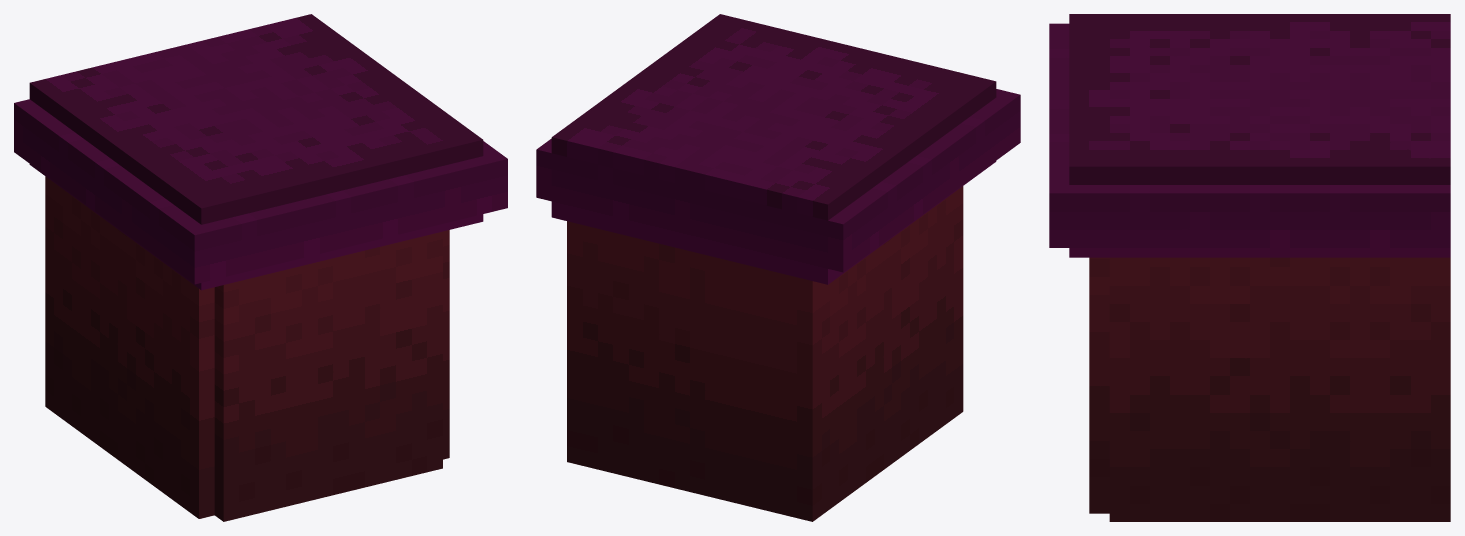
The model's file is full_top_end.glb.
3 views of the same model, side by side, from view 1: azimuth 30°, elevation 25°; view 2: azimuth 150°, elevation 25°; view 3: azimuth 270°, elevation 25° (orthographic). The views are drawn at different scales.
Parts seen in each view (by area): view 1: full_top_end; view 2: full_top_end; view 3: full_top_end.
Boxes of the visible parts, x1,y1,x2,y2 form: full_top_end: (14, 14, 507, 521); full_top_end: (536, 14, 1020, 521); full_top_end: (1049, 14, 1450, 521).
Size of the model in its own units: 2 by 2 by 2.
Materials: 1 (1 with a texture image).
